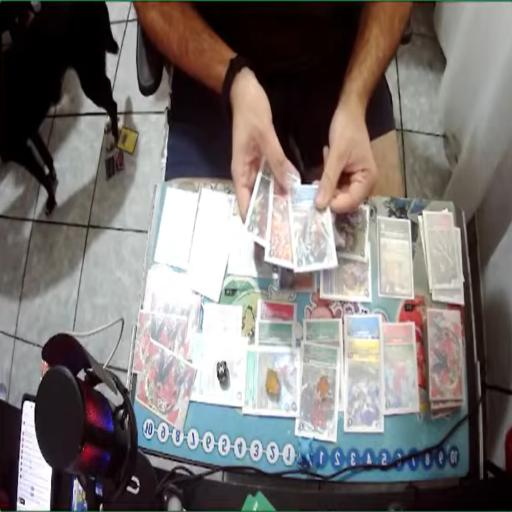card: (287, 174, 342, 272), (184, 330, 250, 410), (242, 343, 305, 419), (183, 218, 232, 302), (299, 342, 340, 442), (382, 320, 418, 422), (240, 152, 278, 248), (344, 337, 382, 430), (264, 167, 296, 267), (378, 213, 416, 297), (153, 194, 196, 268), (423, 208, 460, 290), (320, 248, 372, 304), (330, 198, 370, 262), (201, 298, 244, 345), (228, 243, 278, 276), (304, 319, 344, 351), (199, 188, 238, 220), (346, 316, 384, 346), (253, 321, 298, 345), (257, 300, 296, 326), (278, 268, 319, 292)
